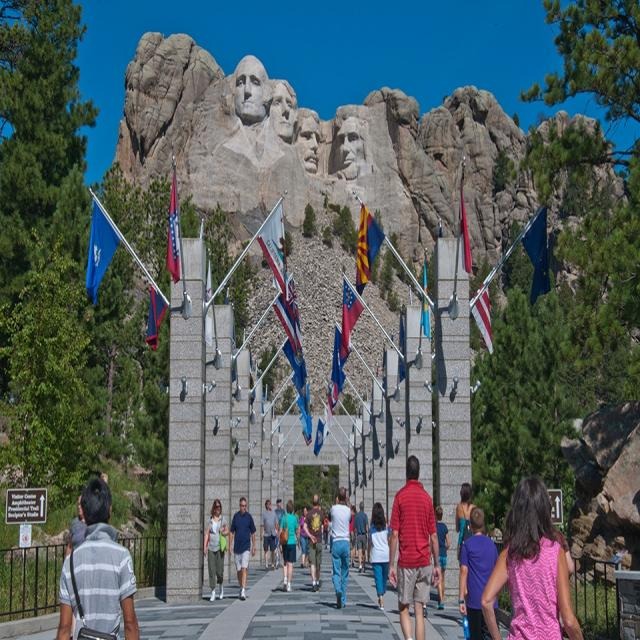body: (479, 472, 587, 639), (231, 53, 369, 180), (55, 476, 140, 640), (388, 452, 442, 639), (457, 505, 502, 639), (326, 484, 353, 610), (365, 500, 394, 612), (227, 495, 257, 602), (202, 496, 230, 603), (455, 481, 478, 607), (301, 492, 325, 592), (278, 497, 302, 593), (433, 503, 451, 612), (64, 491, 89, 558), (260, 498, 280, 570), (353, 500, 369, 572), (296, 506, 312, 568), (349, 504, 358, 568), (273, 498, 286, 526), (321, 512, 330, 550), (327, 516, 336, 554), (292, 512, 300, 550)
